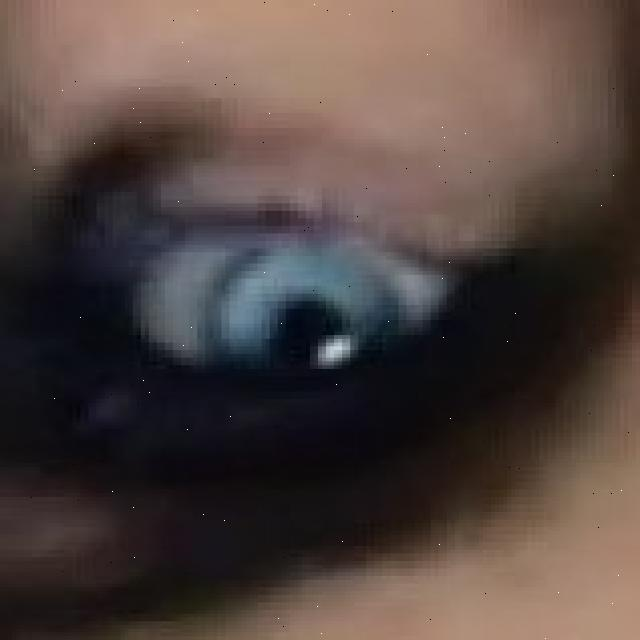Normal: (206, 237, 405, 410)
